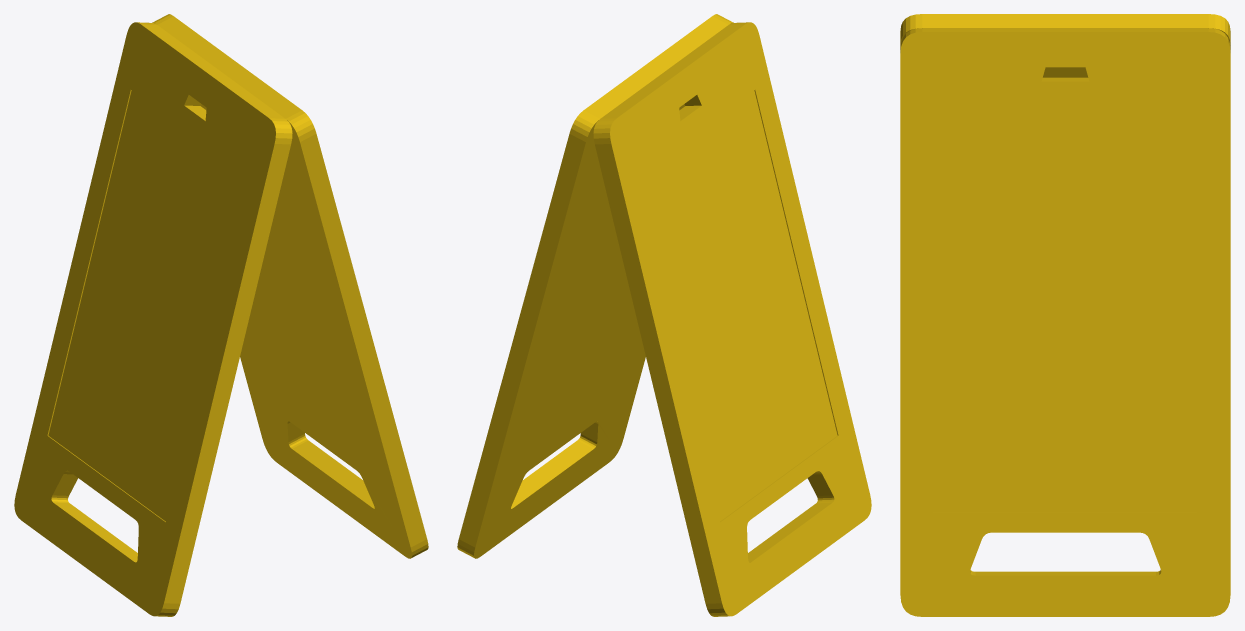
Rendered from under construction.fbx.
3 renders of one model, left to right at view 1: azimuth 30°, elevation 25°; view 2: azimuth 150°, elevation 25°; view 3: azimuth 270°, elevation 25°, orthographic. The views are drawn at different scales.
Parts seen in each view (by area): view 1: Plane002; view 2: Plane002; view 3: Plane002.
Boxes of the visible parts, box(x1,y1,x2,y2) form: Plane002: box(14, 14, 428, 616); Plane002: box(457, 14, 871, 616); Plane002: box(900, 14, 1230, 616).
Bounding box in the file's own units: 47.72 × 45 × 79.02.
